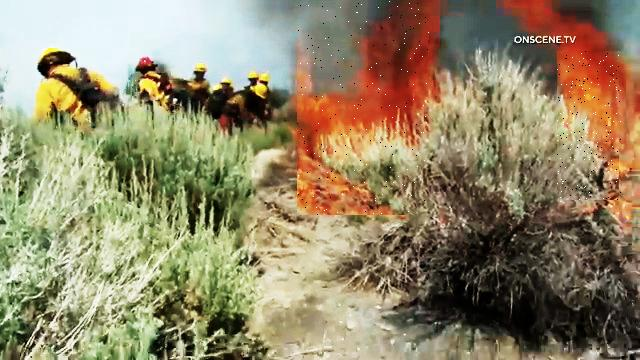fire: (297, 0, 430, 215), (558, 52, 622, 203)
